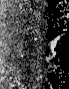man: (44, 32, 66, 64)
